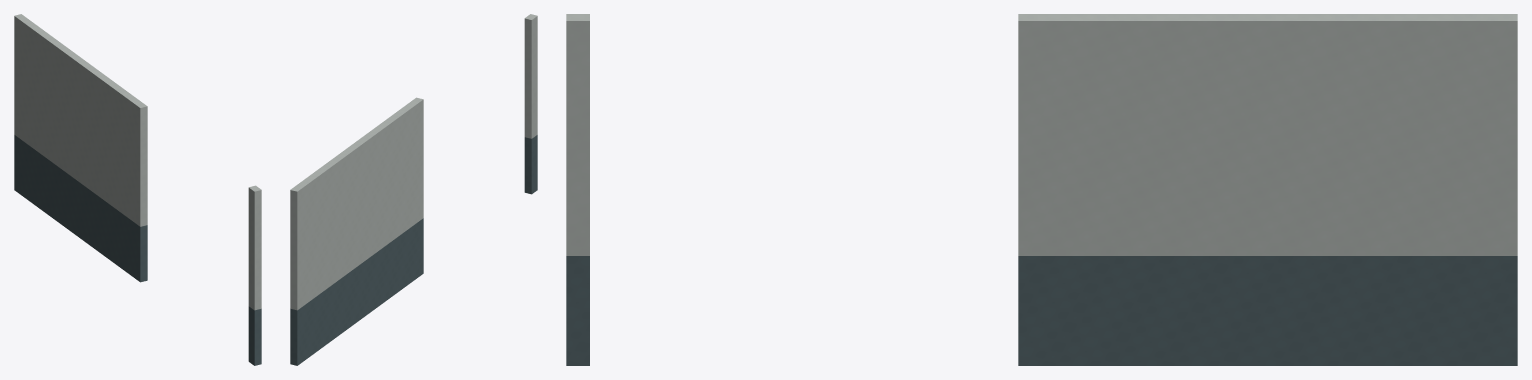
File: AST-STF-G3-017.glb
3 renders of one model, left to right at view 1: azimuth 30°, elevation 25°; view 2: azimuth 150°, elevation 25°; view 3: azimuth 270°, elevation 25°, orthographic. The views are drawn at different scales.
Visible parts, largest first — view 1: screen_wall_staff_white_paint_-7_52, screen_wall_staff_bluegrey_paint_-7_52; view 2: screen_wall_staff_white_paint_-7_52, screen_wall_staff_bluegrey_paint_-7_52; view 3: screen_wall_staff_white_paint_-7_52, screen_wall_staff_bluegrey_paint_-7_52.
Part boxes in pixels (box(x1,y1,x2,y2)): screen_wall_staff_white_paint_-7_52: box(14, 14, 261, 310); screen_wall_staff_bluegrey_paint_-7_52: box(14, 135, 261, 365); screen_wall_staff_white_paint_-7_52: box(290, 14, 537, 310); screen_wall_staff_bluegrey_paint_-7_52: box(290, 135, 537, 365); screen_wall_staff_white_paint_-7_52: box(566, 14, 1517, 255); screen_wall_staff_bluegrey_paint_-7_52: box(566, 256, 1517, 365).
Bounding box in the file's own units: 0.14 × 3.2 × 8.
2 materials, 2 textured.
